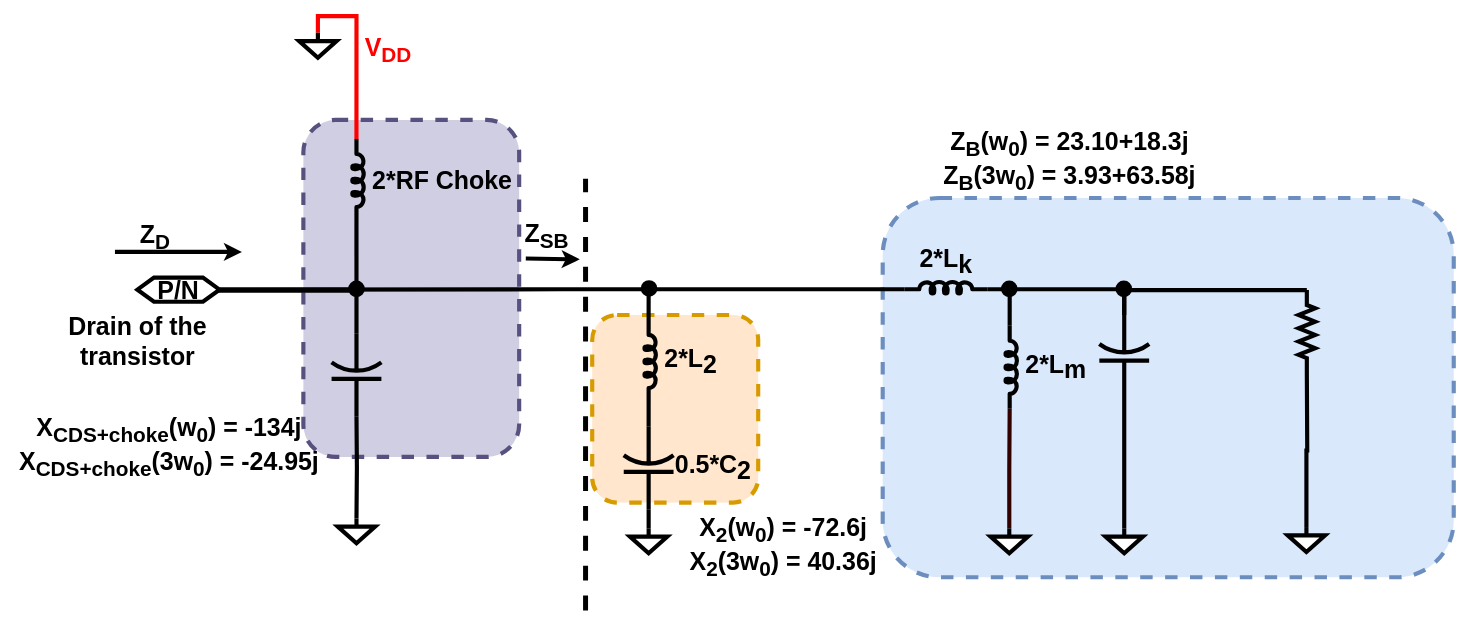
Some shapes in this 1470 by 628 pixel diagram are drawn without their labels. Here are the shapes that lost their labels. From the top down, the box of each, then its label:
(1296, 288, 1317, 375): R L *(km/n) 2
(329, 331, 383, 418): 0.5*C DS
(1097, 312, 1151, 400): C L *(n/km) 2
